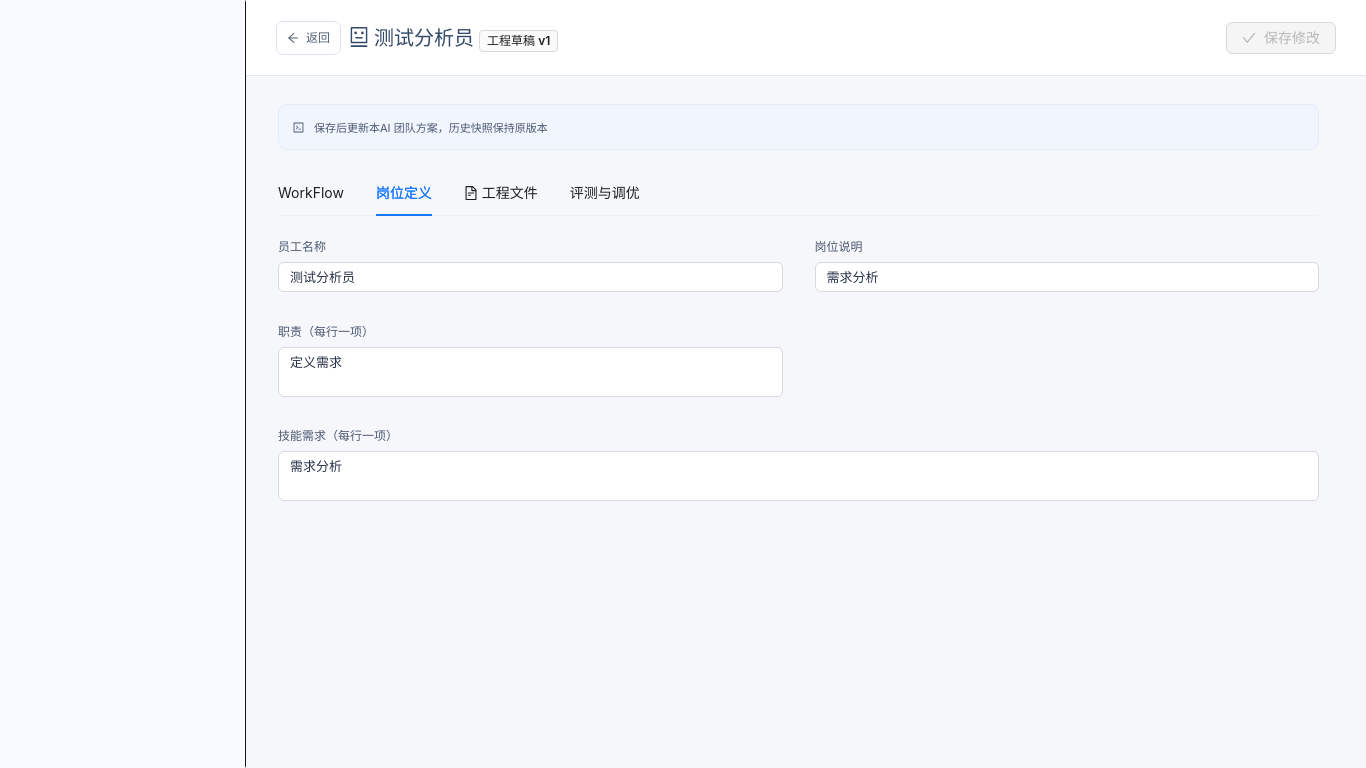
Scenario: 员工编辑器 › 保存失败展示错误并保留修改
Type "修改" into the field labelled "员工名称" at (530, 277), box [278,262,782,292]
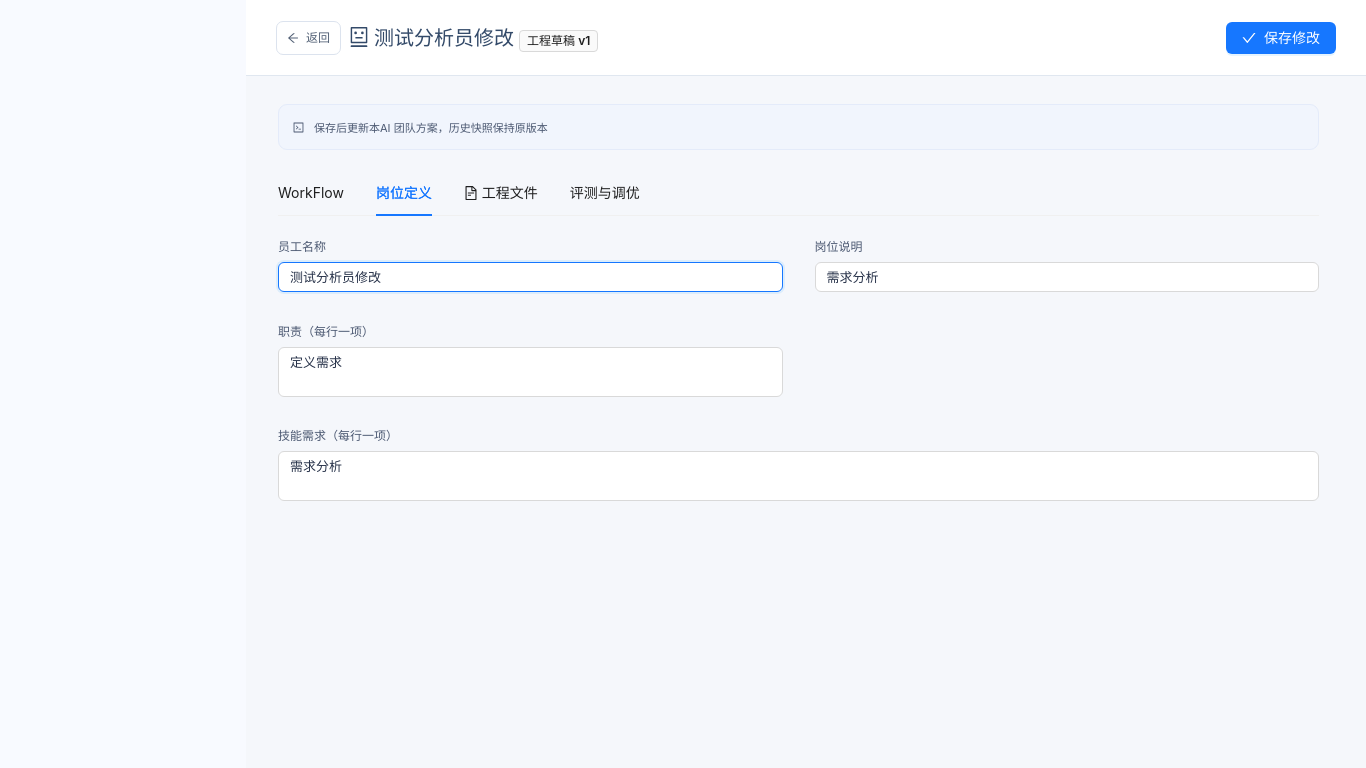
Click the button "保存修改" at (1281, 38), box [1226,22,1336,54]
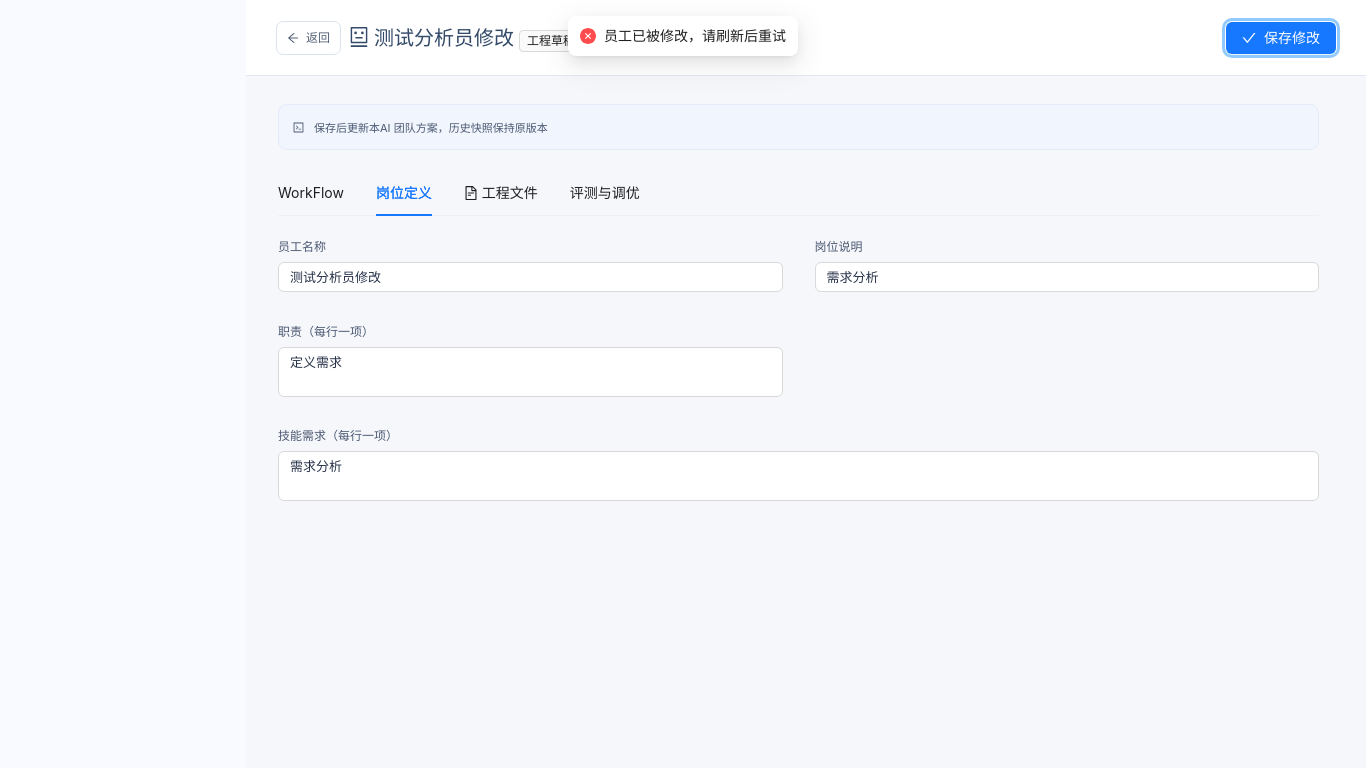
Check: the field labelled "员工名称" holds "测试分析员修改", box [278,262,782,292]
Check: the text "员工已被修改，请刷新后重试" is shown, box [604,25,786,47]
